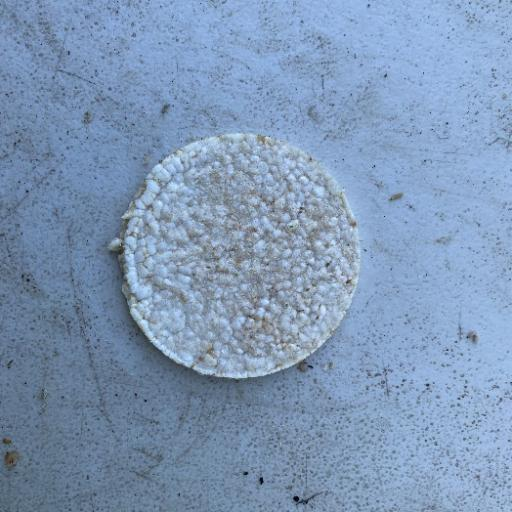Waste: (108, 131, 362, 380)
